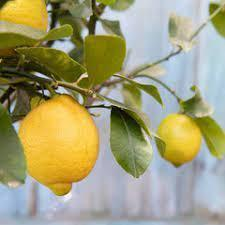lemon: (17, 93, 99, 196), (156, 112, 202, 168), (0, 0, 49, 33)
